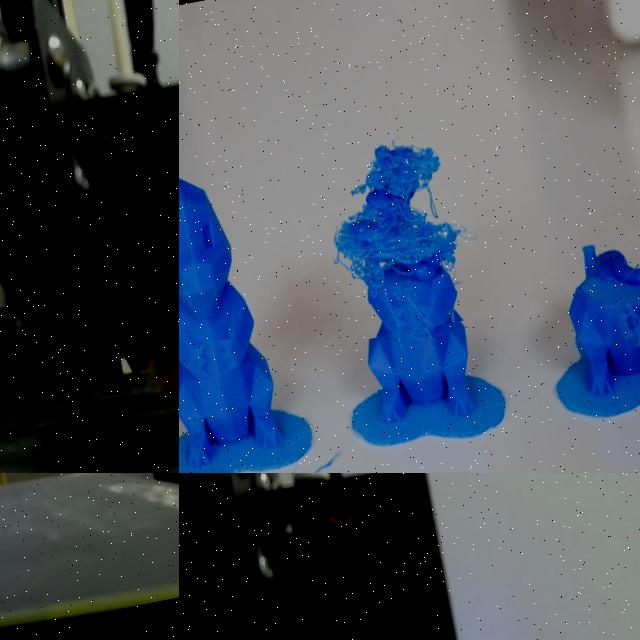spaghetti: (288, 97, 494, 346), (608, 274, 640, 382), (150, 358, 179, 398)
